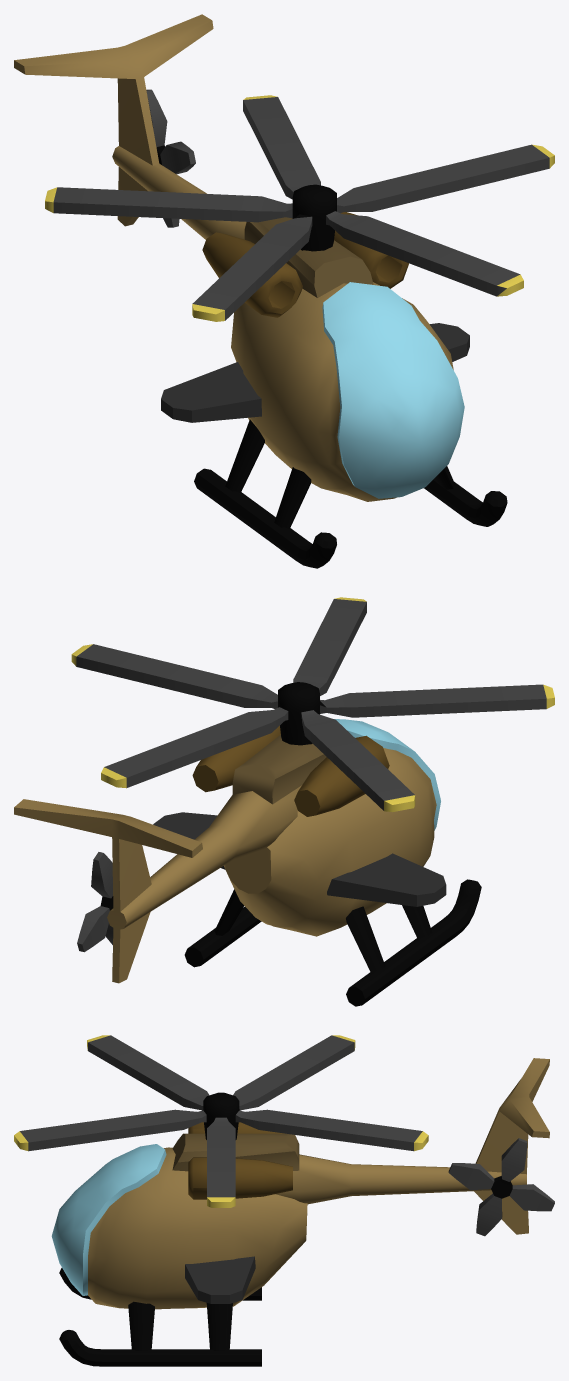
The model's file is Helicopter 3.fbx.
3 views of the same model, one above another, from view 1: azimuth 30°, elevation 25°; view 2: azimuth 150°, elevation 25°; view 3: azimuth 270°, elevation 25° (orthographic). The views are drawn at different scales.
Parts seen in each view (by area): view 1: Sphere.009, Cylinder.494, Cube.534, Plane.084, Cube.535, Cylinder.611, Cylinder.493, Plane.085, Plane.086; view 2: Cylinder.494, Sphere.009, Cube.534, Plane.084, Cube.535, Cylinder.611, Cylinder.493, Plane.086, Plane.085; view 3: Sphere.009, Cylinder.494, Cube.534, Plane.084, Cylinder.493, Cylinder.611, Cube.535, Plane.085, Plane.086.
Part boxes in pixels (left/top/right/bottom): Sphere.009: left=231, top=282, right=464, bottom=501; Cylinder.494: left=45, top=95, right=554, bottom=321; Cube.534: left=14, top=14, right=373, bottom=297; Plane.084: left=194, top=468, right=507, bottom=568; Cube.535: left=161, top=323, right=469, bottom=422; Cylinder.611: left=202, top=212, right=408, bottom=317; Cylinder.493: left=146, top=89, right=195, bottom=227; Plane.085: left=274, top=466, right=455, bottom=528; Plane.086: left=225, top=419, right=264, bottom=492; Cylinder.494: left=71, top=597, right=554, bottom=812; Sphere.009: left=224, top=719, right=440, bottom=936; Cube.534: left=14, top=734, right=326, bottom=983; Plane.084: left=184, top=879, right=481, bottom=1006; Cube.535: left=153, top=812, right=446, bottom=906; Cylinder.611: left=192, top=725, right=389, bottom=816; Cylinder.493: left=77, top=852, right=113, bottom=952; Plane.086: left=214, top=889, right=385, bottom=972; Plane.085: left=402, top=905, right=432, bottom=938; Sphere.009: left=51, top=1144, right=307, bottom=1309; Cylinder.494: left=14, top=1035, right=428, bottom=1207; Cube.534: left=172, top=1058, right=549, bottom=1234; Plane.084: left=59, top=1268, right=261, bottom=1366; Cylinder.493: left=448, top=1138, right=554, bottom=1236; Cylinder.611: left=188, top=1122, right=292, bottom=1199; Cube.535: left=185, top=1256, right=255, bottom=1303; Plane.085: left=128, top=1301, right=154, bottom=1350; Plane.086: left=206, top=1303, right=232, bottom=1350.
Size of the model in its own units: 1074 by 718 by 1474.
